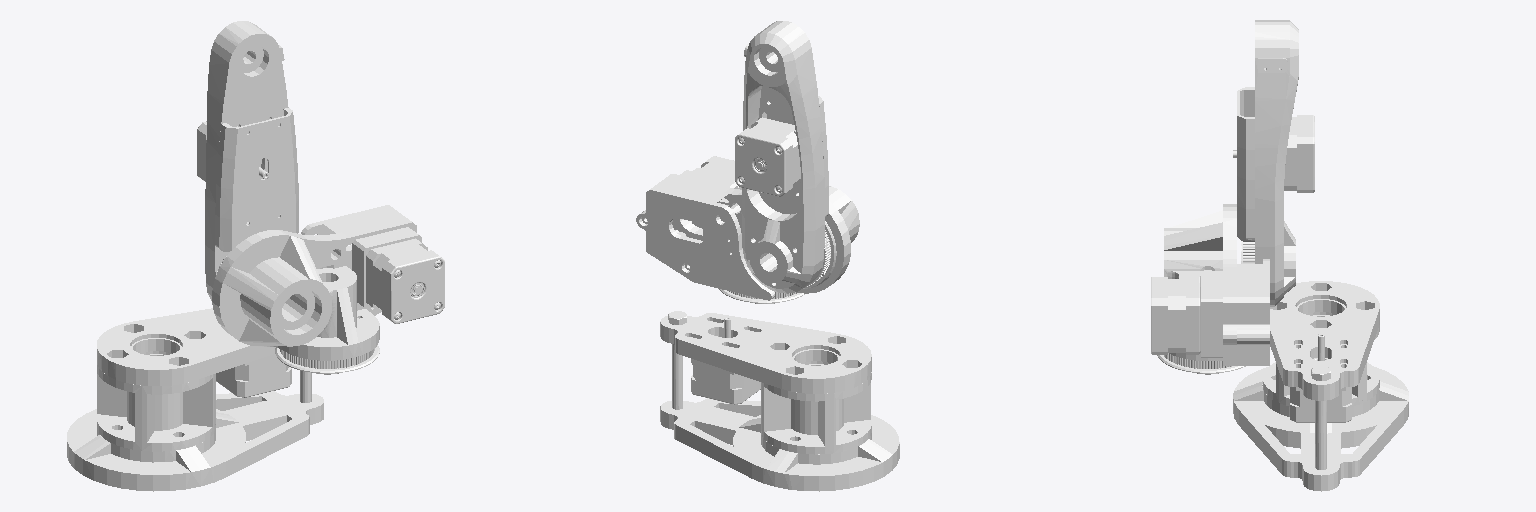
The robot description file, URDF, robot "arm":
<?xml version="1.0" encoding="utf-8"?>
<!-- This URDF was automatically created by SolidWorks to URDF Exporter! Originally created by [author] ([email redacted]) 
     Commit Version: 1.6.0-4-g7f85cfe  Build Version: 1.6.7995.38578
     For more information, please see http://wiki.ros.org/sw_urdf_exporter -->
<robot
  name="arm">
  <material name="white">
    <color rgba="1 1 1 1" />
  </material>
  <link
    name="base_link">
    <inertial>
      <origin
        xyz="0.11268 0.013885 0.077154"
        rpy="0 0 0" />
      <mass
        value="0.43666" />
      <inertia
        ixx="0.00027549"
        ixy="4.2095E-06"
        ixz="2.421E-10"
        iyy="0.00079795"
        iyz="-3.5553E-11"
        izz="0.00059632" />
    </inertial>
    <visual>
      <origin
        xyz="0 0 0"
        rpy="0 0 0" />
      <geometry>
        <mesh
          filename="package://arm_description/model/meshes/base_link.STL" />
      </geometry>
      <material
        name="white">
      </material>
    </visual>
    <collision>
      <origin
        xyz="0 0 0"
        rpy="0 0 0" />
      <geometry>
        <mesh
          filename="package://arm_description/model/meshes/base_link.STL" />
      </geometry>
    </collision>
  </link>
  <link
    name="link1">
    <inertial>
      <origin
        xyz="0.0063779 0.04888 -0.0022943"
        rpy="0 0 0" />
      <mass
        value="0.35633" />
      <inertia
        ixx="0.00017591"
        ixy="2.2378E-05"
        ixz="5.373E-05"
        iyy="0.00032305"
        iyz="4.5338E-06"
        izz="0.00037059" />
    </inertial>
    <visual>
      <origin
        xyz="0 0 0"
        rpy="0 0 0" />
      <geometry>
        <mesh
          filename="package://arm_description/model/meshes/link1.STL" />
      </geometry>
      <material
        name="white">
      </material>
    </visual>
    <collision>
      <origin
        xyz="0 0 0"
        rpy="0 0 0" />
      <geometry>
        <mesh
          filename="package://arm_description/model/meshes/link1.STL" />
      </geometry>
    </collision>
  </link>
  <joint name="J1" type="revolute">
    <limit lower="-3.1415" upper="3.1415" effort="1" velocity="10" />
    <origin
      xyz="0.087103 -0.077154 0.054376"
      rpy="1.5708 0 -0.17957" />
    <parent
      link="base_link" />
    <child
      link="link1" />
    <axis
      xyz="0 1 0" />
  </joint>
  <link
    name="link2">
    <inertial>
      <origin
        xyz="-0.0019445 0.065859 -0.034727"
        rpy="0 0 0" />
      <mass
        value="0.26746" />
      <inertia
        ixx="0.00071684"
        ixy="-3.9596E-05"
        ixz="1.1486E-05"
        iyy="8.2739E-05"
        iyz="1.6945E-05"
        izz="0.00077438" />
    </inertial>
    <visual>
      <origin
        xyz="0 0 0"
        rpy="0 0 0" />
      <geometry>
        <mesh
          filename="package://arm_description/model/meshes/link2.STL" />
      </geometry>
      <material
        name="white">
      </material>
    </visual>
    <collision>
      <origin
        xyz="0 0 0"
        rpy="0 0 0" />
      <geometry>
        <mesh
          filename="package://arm_description/model/meshes/link2.STL" />
      </geometry>
    </collision>
  </link>
  <joint
    name="J2"
    type="continuous">
    <origin
      xyz="-0.0383525749921799 0.0583000000000001 -0.0013208705506468"
      rpy="0.0114835938093404 -0.000363602890144003 0.0633037833578822" />
    <parent
      link="link1" />
    <child
      link="link2" />
    <axis
      xyz="0.178603115585449 0 0.983921199641095" />
  </joint>
  <link
    name="link3">
    <inertial>
      <origin
        xyz="0.0130563478238648 0.00105076957686756 0.00197573396878213"
        rpy="0 0 0" />
      <mass
        value="0.222311320377134" />
      <inertia
        ixx="9.15294723513773E-05"
        ixy="-2.93868065975673E-06"
        ixz="5.36688667027622E-06"
        iyy="0.00012003016865184"
        iyz="-5.92765685832411E-06"
        izz="0.000140784486113707" />
    </inertial>
    <visual>
      <origin
        xyz="0 0 0"
        rpy="0 0 0" />
      <geometry>
        <mesh
          filename="package://arm_description/model/meshes/link3.STL" />
      </geometry>
      <material
        name="white">
      </material>
    </visual>
    <collision>
      <origin
        xyz="0 0 0"
        rpy="0 0 0" />
      <geometry>
        <mesh
          filename="package://arm_description/model/meshes/link3.STL" />
      </geometry>
    </collision>
  </link>
  <joint
    name="J3"
    type="continuous">
    <origin
      xyz="0.01012184118035 0.159668946677294 -0.00183733450496954"
      rpy="-0.0341579908525323 -0.00324248866976051 -0.189267104095329" />
    <parent
      link="link2" />
    <child
      link="link3" />
    <axis
      xyz="0.178603115585449 0 0.983921199641095" />
  </joint>
  <link
    name="link4">
    <inertial>
      <origin
        xyz="0.00802792604442943 0.00104408266558731 -0.00105833882848673"
        rpy="0 0 0" />
      <mass
        value="0.1696257012172" />
      <inertia
        ixx="5.17820793133401E-05"
        ixy="-6.63726230268935E-06"
        ixz="8.90032415343836E-06"
        iyy="0.000101876628194636"
        iyz="1.17168186802823E-06"
        izz="9.3966015439911E-05" />
    </inertial>
    <visual>
      <origin
        xyz="0 0 0"
        rpy="0 0 0" />
      <geometry>
        <mesh
          filename="package://arm_description/model/meshes/link4.STL" />
      </geometry>
      <material
        name="white">
      </material>
    </visual>
    <collision>
      <origin
        xyz="0 0 0"
        rpy="0 0 0" />
      <geometry>
        <mesh
          filename="package://arm_description/model/meshes/link4.STL" />
      </geometry>
    </collision>
  </link>
  <joint
    name="J4"
    type="continuous">
    <origin
      xyz="-3.63625649351731E-05 0.0148771771133325 0.0105252497783941"
      rpy="0.0192434154802188 0.00255235780533698 -0.00346944801670467" />
    <parent
      link="link3" />
    <child
      link="link4" />
    <axis
      xyz="0.97586466350816 0.127708020083281 -0.17714067890384" />
  </joint>
  <link
    name="link5">
    <inertial>
      <origin
        xyz="0.00207136926136327 0.00132324610517903 -0.000396911101235978"
        rpy="0 0 0" />
      <mass
        value="0.0179895273320859" />
      <inertia
        ixx="2.01072029683863E-06"
        ixy="-3.67044819195393E-07"
        ixz="2.26773043949782E-08"
        iyy="2.36455919952921E-06"
        iyz="6.0347923268703E-08"
        izz="2.09143498833267E-06" />
    </inertial>
    <visual>
      <origin
        xyz="0 0 0"
        rpy="0 0 0" />
      <geometry>
        <mesh
          filename="package://arm_description/model/meshes/link5.STL" />
      </geometry>
      <material
        name="white">
      </material>
    </visual>
    <collision>
      <origin
        xyz="0 0 0"
        rpy="0 0 0" />
      <geometry>
        <mesh
          filename="package://arm_description/model/meshes/link5.STL" />
      </geometry>
    </collision>
  </link>
  <joint
    name="J5"
    type="continuous">
    <origin
      xyz="-0.135560517031385 -0.0176394821004389 0.0246051802150107"
      rpy="-3.01860336767631 0.324554663782284 0.719451490827395" />
    <parent
      link="link4" />
    <child
      link="link5" />
    <axis
      xyz="0.176090142676508 0.0195610841602276 0.98417967142115" />
  </joint>
  <link
    name="ee">
    <inertial>
      <origin
        xyz="0.00036692 -0.00026843 0.027707"
        rpy="0 0 0" />
      <mass
        value="0.027464" />
      <inertia
        ixx="9.1511E-06"
        ixy="-9.3123E-13"
        ixz="3.3145E-14"
        iyy="5.0332E-06"
        iyz="4.6816E-10"
        izz="1.1896E-05" />
    </inertial>
    <visual>
      <origin
        xyz="0 0 0"
        rpy="0 0 0" />
      <geometry>
        <mesh
          filename="package://arm_description/model/meshes/ee.STL" />
      </geometry>
      <material
        name="white">
      </material>
    </visual>
    <collision>
      <origin
        xyz="0 0 0"
        rpy="0 0 0" />
      <geometry>
        <mesh
          filename="package://arm_description/model/meshes/ee.STL" />
      </geometry>
    </collision>
  </link>
  <joint
    name="J6"
    type="continuous">
    <origin
      xyz="-0.0199666324199864 -0.0127552190119366 0.00382596102472059"
      rpy="-1.41021344284507 -0.0773897000977449 2.12675451737731" />
    <parent
      link="link5" />
    <child
      link="ee" />
    <axis
      xyz="0 0 1" />
  </joint>
</robot>

--- Render facts (derived) ---
The picture shows the robot from 3 angles, left to right: view 1: azimuth 30°, elevation 25°; view 2: azimuth 150°, elevation 25°; view 3: azimuth 270°, elevation 25°; orthographic projection.
Robot: arm — 7 links, 6 joints (1 revolute, 5 continuous); root link base_link; default pose: all joints at 0.
Visible links, largest first — view 1: base_link, link1, link2; view 2: base_link, link2, link1; view 3: base_link, link1, link2.
Boxes of the visible links, x1=… form: base_link: x1=67, y1=308, x2=323, y2=491; link1: x1=212, y1=205, x2=444, y2=374; link2: x1=197, y1=21, x2=298, y2=300; base_link: x1=660, y1=311, x2=899, y2=491; link2: x1=735, y1=21, x2=836, y2=293; link1: x1=636, y1=156, x2=859, y2=303; base_link: x1=1233, y1=281, x2=1408, y2=491; link1: x1=1151, y1=204, x2=1269, y2=374; link2: x1=1233, y1=20, x2=1314, y2=306.
Bounding box of the posed robot: 0.2294 × 0.1762 × 0.3151 m (x, y, z).
3 mesh visuals loaded from 7 distinct referenced files (3 binary STL); not drawn: 4 (reference not matched to a file when rendering).